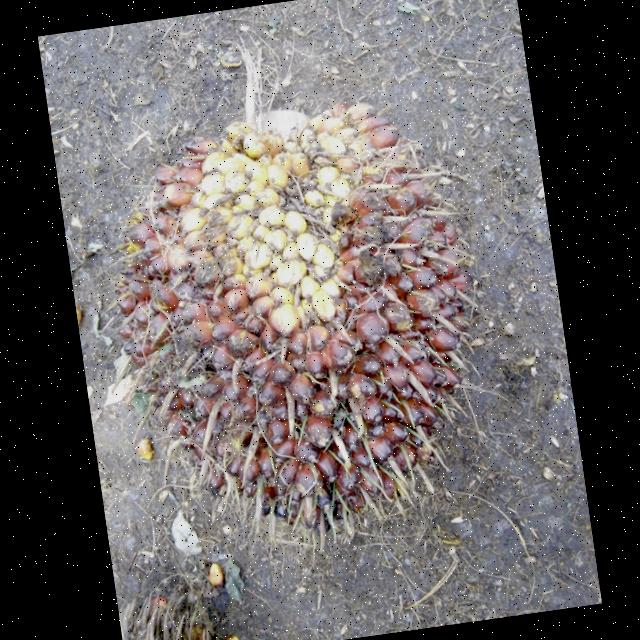Ripe: (128, 96, 470, 527)
